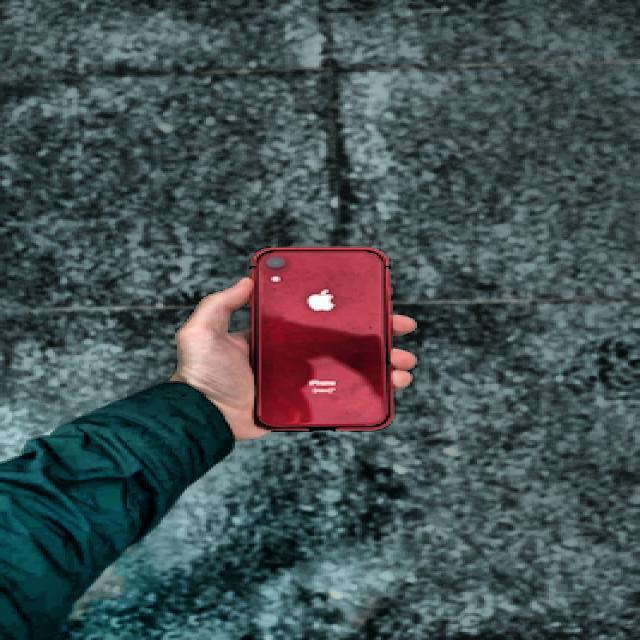Phone: (247, 246, 391, 429)
